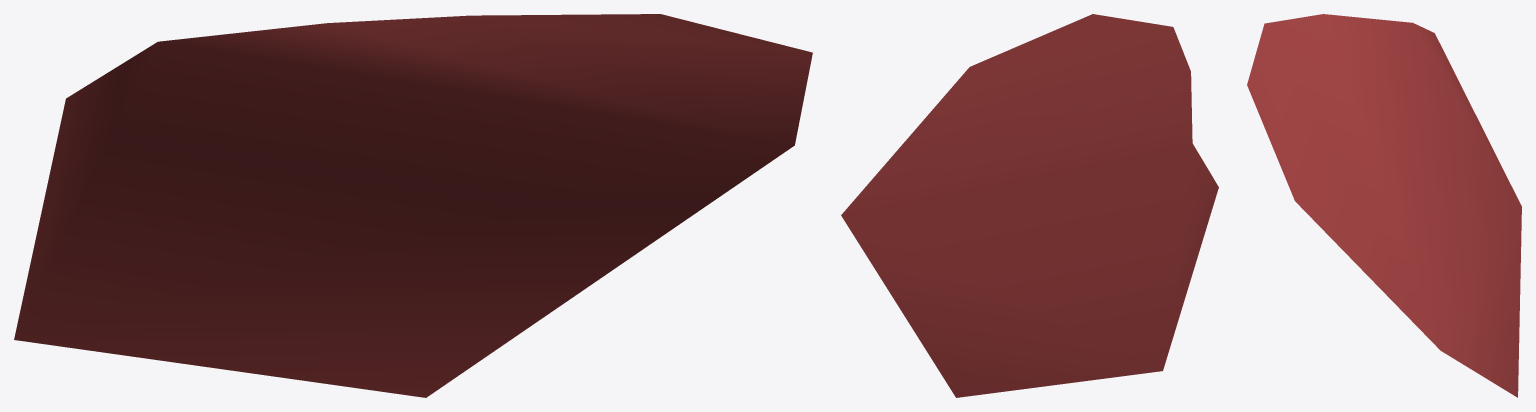
Rendered from rectus-anterior-capitis-muscle-ol.glb.
3 views of the same model, side by side, from view 1: azimuth 30°, elevation 25°; view 2: azimuth 150°, elevation 25°; view 3: azimuth 270°, elevation 25° (orthographic). The views are drawn at different scales.
Visible parts, largest first — view 1: Rectus anterior capitis muscle.ol; view 2: Rectus anterior capitis muscle.ol; view 3: Rectus anterior capitis muscle.ol.
Boxes of the visible parts, x1,y1,x2,y2 form: Rectus anterior capitis muscle.ol: (14,14,812,397); Rectus anterior capitis muscle.ol: (841,14,1218,397); Rectus anterior capitis muscle.ol: (1247,14,1521,397).
Size of the model in its own units: 0.0085 by 0.00665 by 0.00511.
